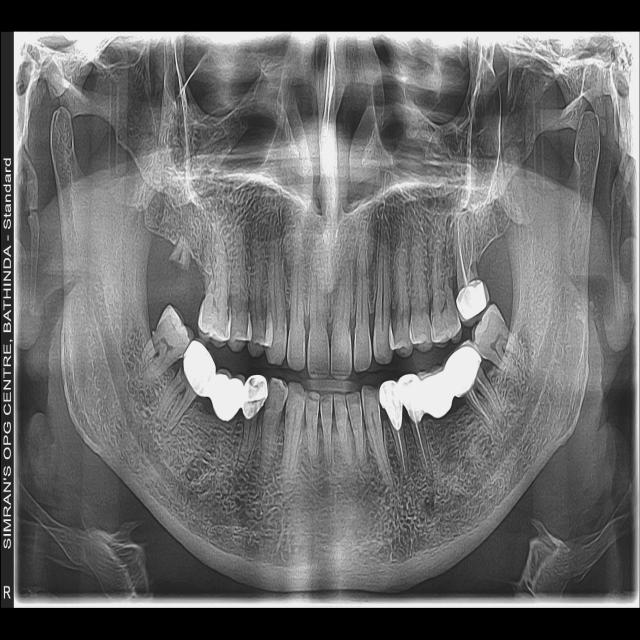Root Piece: (169, 235, 191, 270)
